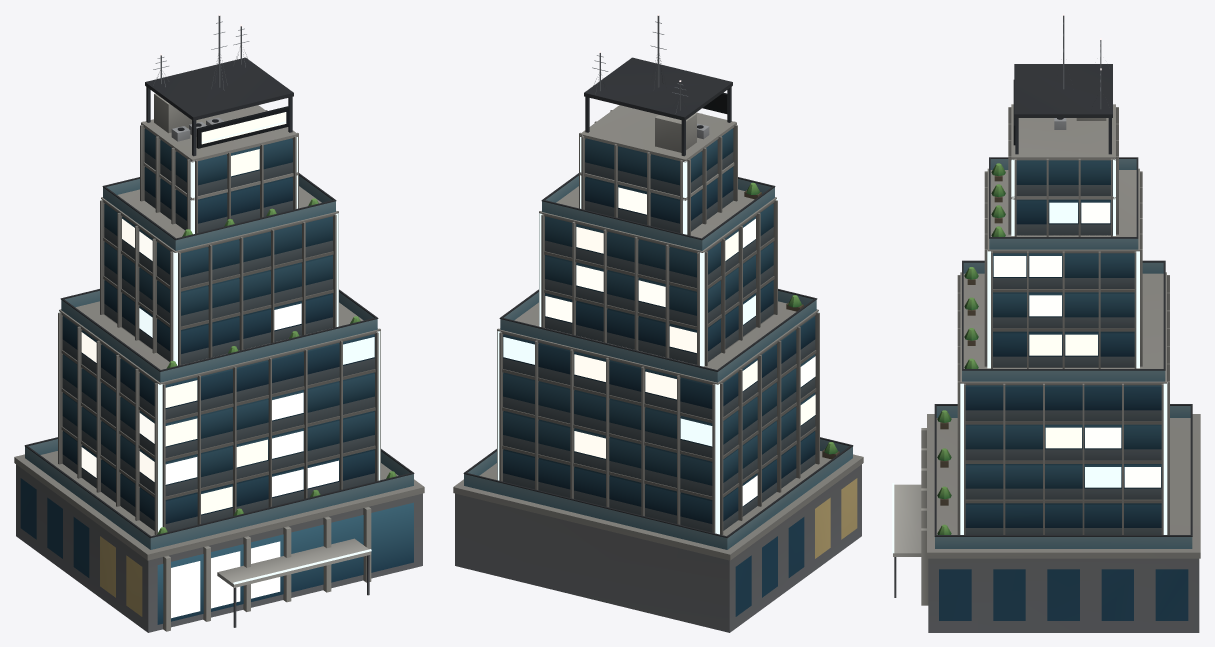
File: torre_vidrio_a.glb
The picture shows the model from 3 angles, left to right: view 1: azimuth 30°, elevation 25°; view 2: azimuth 150°, elevation 25°; view 3: azimuth 270°, elevation 25°; orthographic projection. The views are drawn at different scales.
Parts seen in each view (by area): view 1: torre_vidrio_a; view 2: torre_vidrio_a; view 3: torre_vidrio_a.
Boxes of the visible parts, left/top/right/bottom form: torre_vidrio_a: left=14, top=14, right=424, bottom=632; torre_vidrio_a: left=453, top=14, right=863, bottom=632; torre_vidrio_a: left=892, top=14, right=1200, bottom=632.
Bounding box in the file's own units: 24.2 × 44.8 × 22.74.
